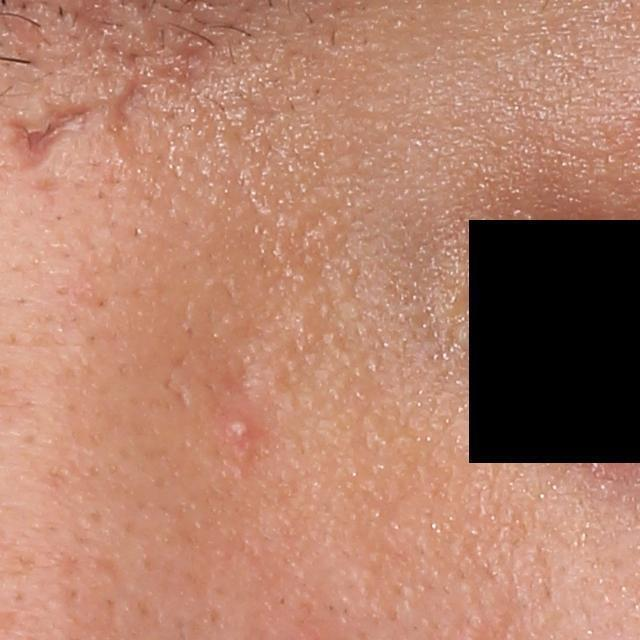atrophic_scar: (112, 69, 145, 131)
pustule: (224, 410, 252, 438)
